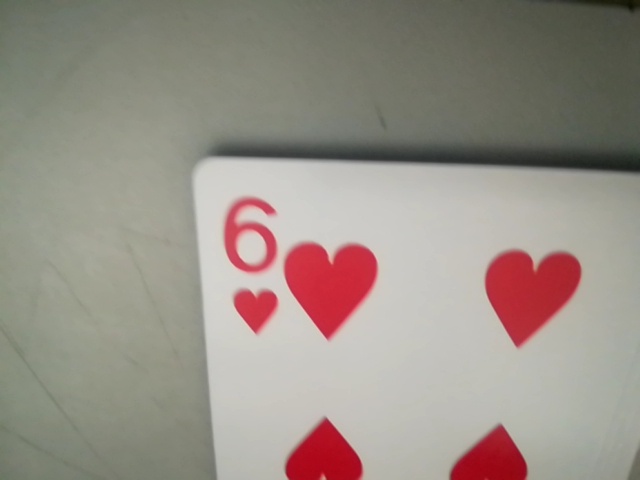hx 6: (207, 187, 287, 342)
